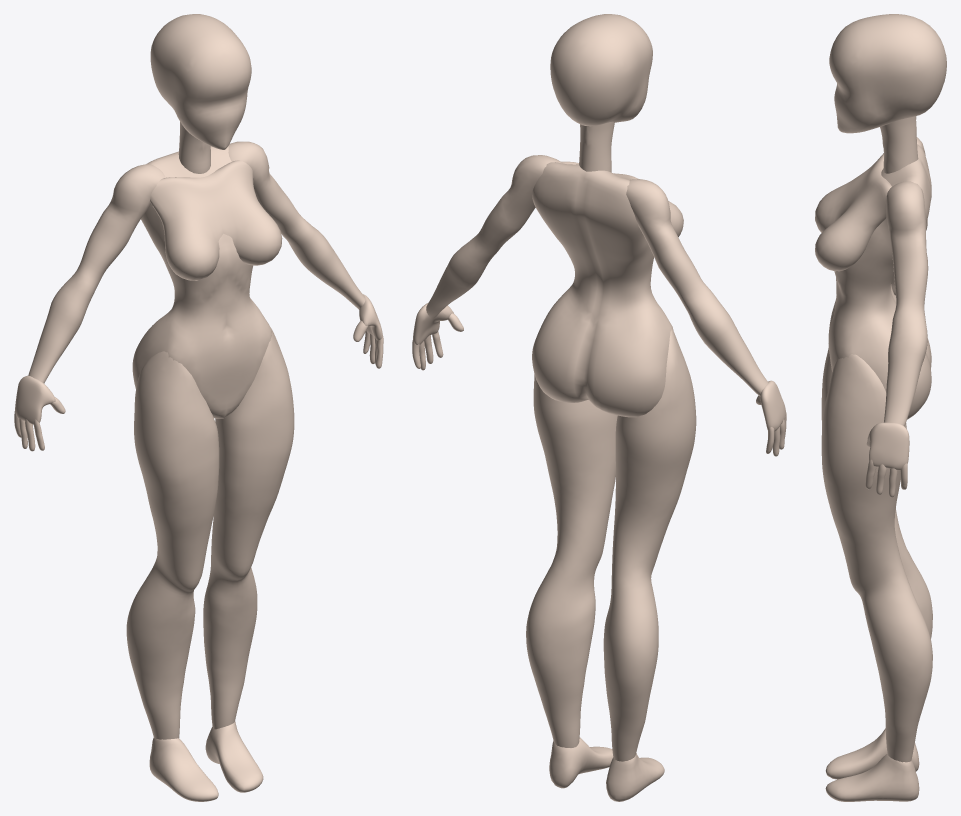
The model's file is slim-light.glb.
3 renders of one model, left to right at view 1: azimuth 30°, elevation 25°; view 2: azimuth 150°, elevation 25°; view 3: azimuth 270°, elevation 25°, orthographic.
Parts seen in each view (by area): view 1: FEMALE BODY TYPE 5_FEMALE BODY TYPE 5_0; view 2: FEMALE BODY TYPE 5_FEMALE BODY TYPE 5_0; view 3: FEMALE BODY TYPE 5_FEMALE BODY TYPE 5_0.
Boxes of the visible parts, x1,y1,x2,y2 form: FEMALE BODY TYPE 5_FEMALE BODY TYPE 5_0: [14, 14, 383, 801]; FEMALE BODY TYPE 5_FEMALE BODY TYPE 5_0: [412, 14, 786, 801]; FEMALE BODY TYPE 5_FEMALE BODY TYPE 5_0: [815, 14, 946, 801].
Size of the model in its own units: 0.8784 by 1.77 by 0.2759.
